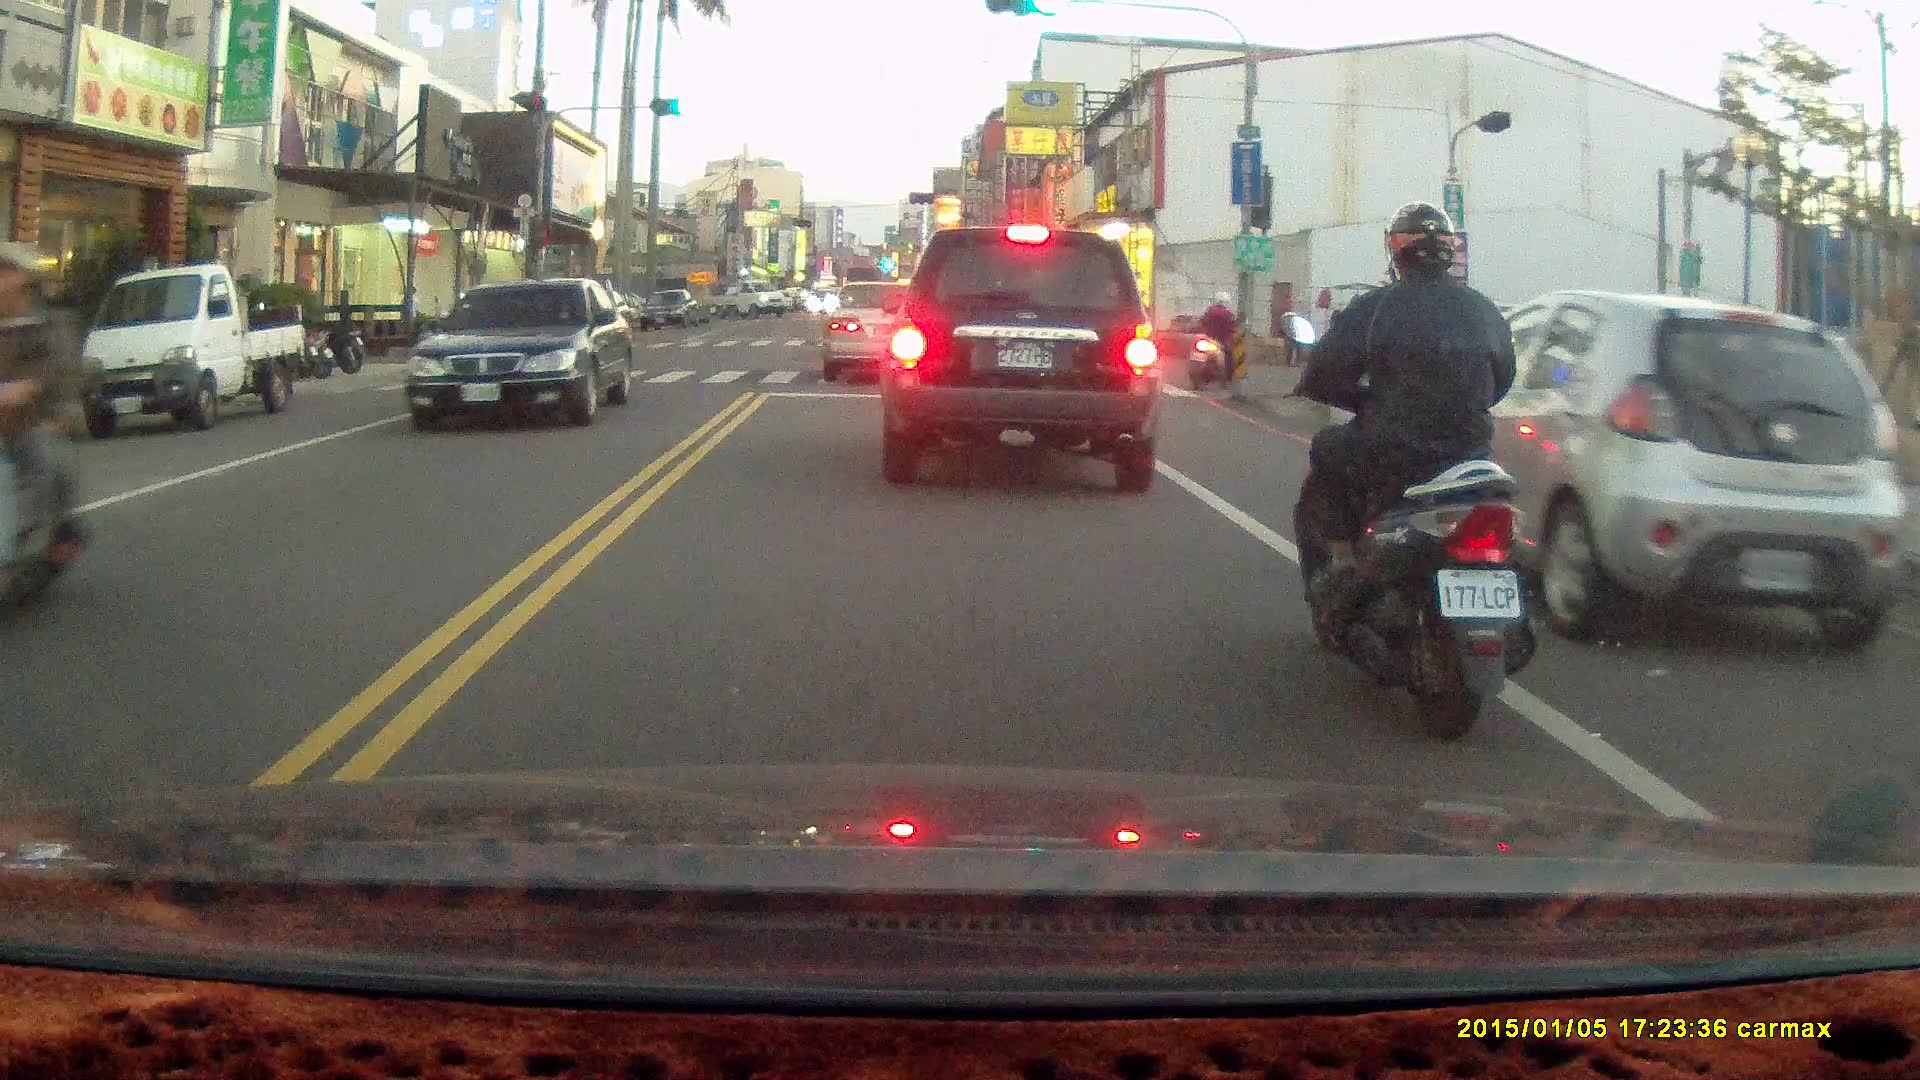rider: (1274, 200, 1541, 745), (0, 237, 89, 630), (1185, 287, 1245, 392)
vehicle: (1420, 293, 1901, 654), (875, 224, 1162, 496), (70, 268, 309, 436), (408, 277, 635, 429), (820, 281, 937, 385)
